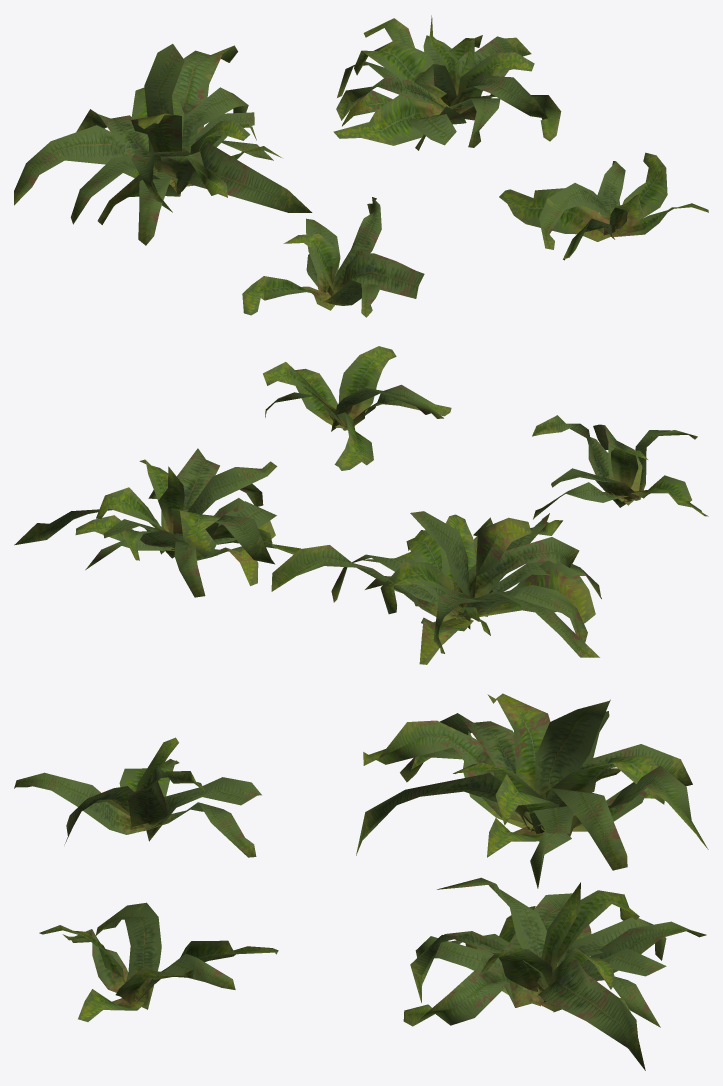
Rendered from fern_02.glb.
3 renders of one model, top to bottom at view 1: azimuth 30°, elevation 25°; view 2: azimuth 150°, elevation 25°; view 3: azimuth 270°, elevation 25°, orthographic. The views are drawn at different scales.
Parts seen in each view (by area): view 1: fern_02_b, fern_02_c, fern_02_d, fern_02_a; view 2: fern_02_b, fern_02_c, fern_02_d, fern_02_a; view 3: fern_02_b, fern_02_c, fern_02_a, fern_02_d.
Part boxes in pixels (x1,y1,x2,y2): fern_02_b: (14, 44, 312, 245); fern_02_c: (333, 15, 561, 150); fern_02_d: (499, 152, 708, 260); fern_02_a: (242, 197, 424, 317); fern_02_b: (271, 511, 601, 664); fern_02_c: (14, 448, 300, 597); fern_02_d: (263, 346, 451, 470); fern_02_a: (532, 415, 708, 519); fern_02_b: (356, 693, 708, 888); fern_02_c: (403, 877, 706, 1070); fern_02_a: (14, 737, 261, 857); fern_02_d: (39, 902, 278, 1021).
Size of the model in its own units: 1.96 by 0.4246 by 1.72.
1 material, 1 textured.
